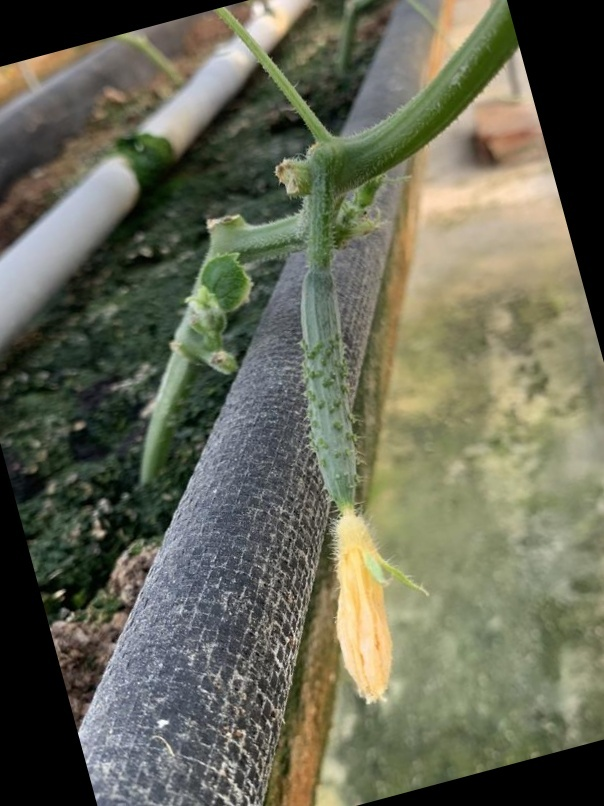bear: (267, 244, 439, 749)
